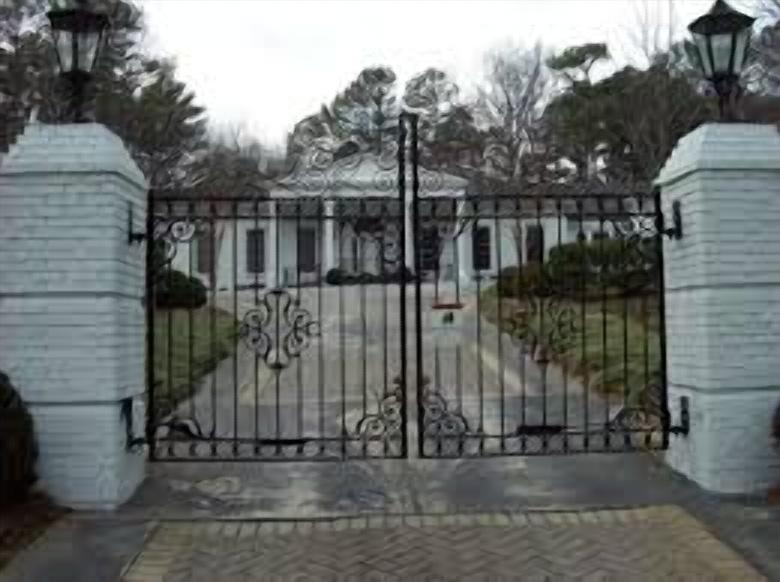Building: (125, 149, 665, 290)
Gate: (142, 110, 671, 461)
Window-without-grill: (246, 227, 264, 275), (196, 231, 216, 273), (297, 226, 315, 271), (525, 224, 544, 266), (473, 226, 490, 270)
